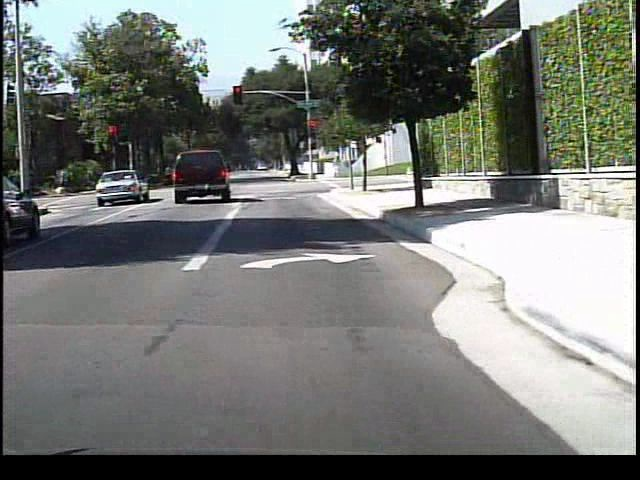person: (331, 149, 346, 177)
